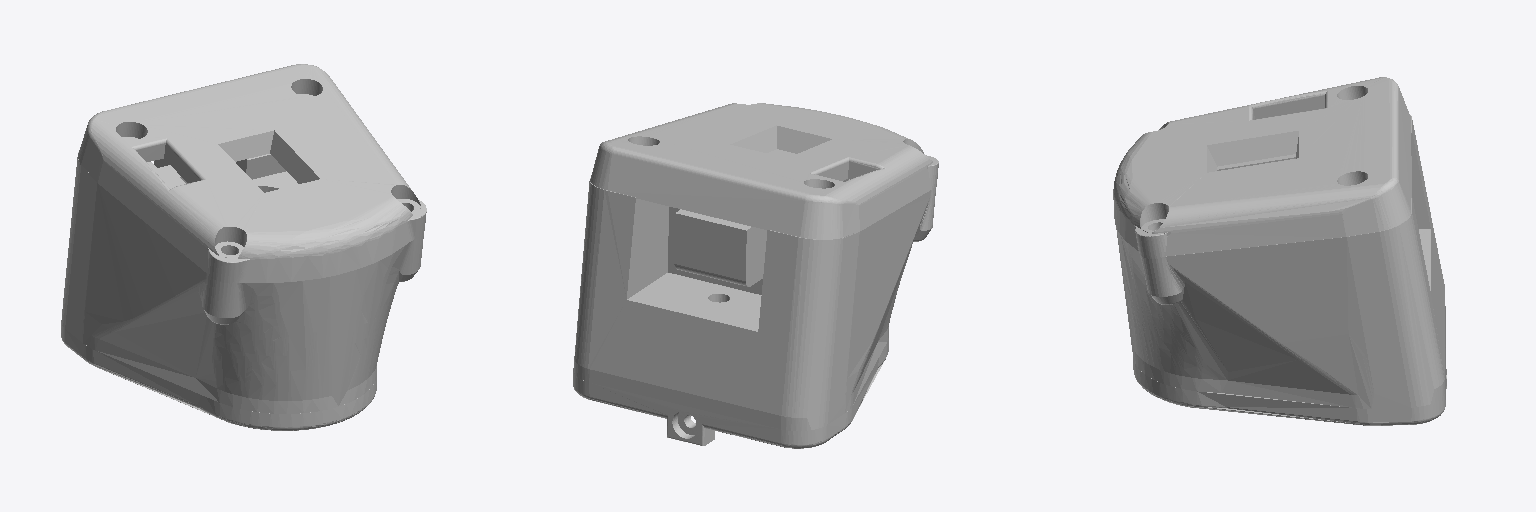
Rendered from smg_tactip_body.obj.
The picture shows the model from 3 angles: view 1: azimuth 30°, elevation 25°; view 2: azimuth 150°, elevation 25°; view 3: azimuth 270°, elevation 25°; orthographic projection.
Visible parts, largest first — view 1: Cam_Cap; view 2: Cam_Cap; view 3: Cam_Cap.
Part boxes in pixels (x1,y1,x2,y2): Cam_Cap: (61,64,426,430); Cam_Cap: (573,103,938,448); Cam_Cap: (1113,77,1446,425).
Bounding box in the file's own units: 0.04 × 0.0385 × 0.0461.